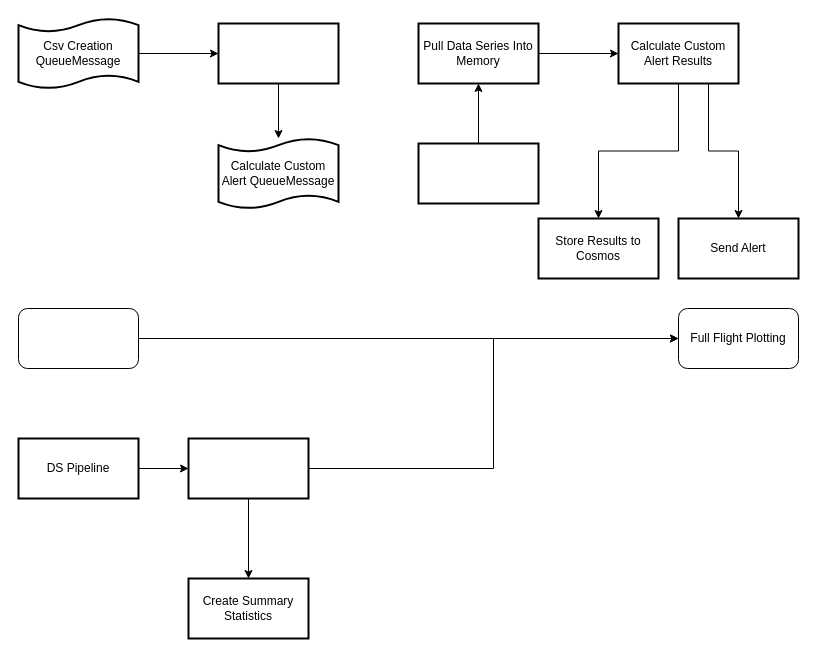
The diagram is 816 pixels wide and 656 high, and some of its shapes have lost their labels. Each missing label, with the centre of its shape:
"Create Phase Summary" goes at (x=248, y=468).
"SQL Warehouse" goes at (x=78, y=338).
"Store Data in SQL" goes at (x=278, y=53).
"Trigger Custom Alert Calc" goes at (x=478, y=173).
